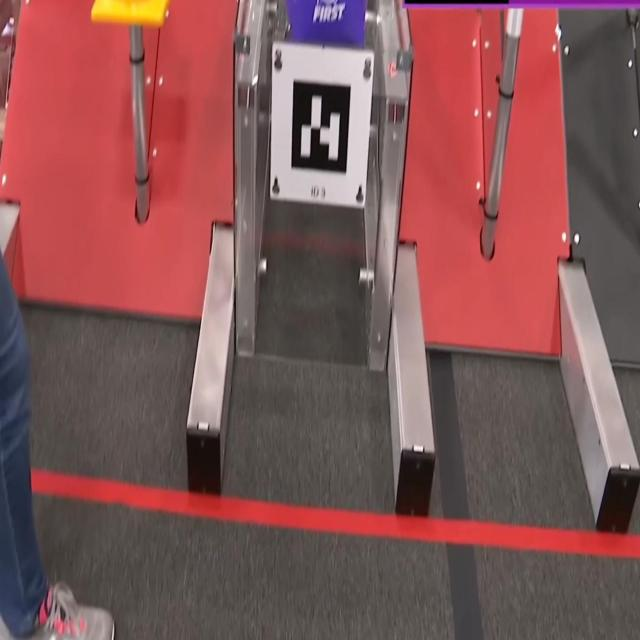frc_cone: (87, 0, 172, 28)
frc_cube: (287, 0, 368, 50)
